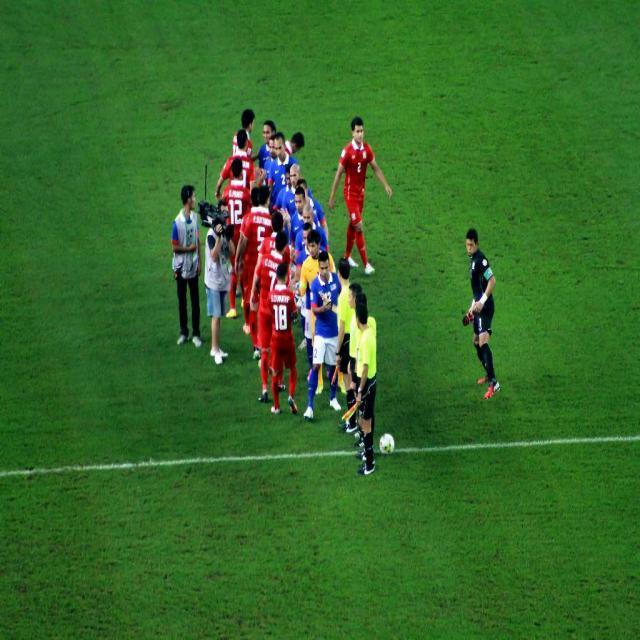football: (377, 432, 402, 464)
